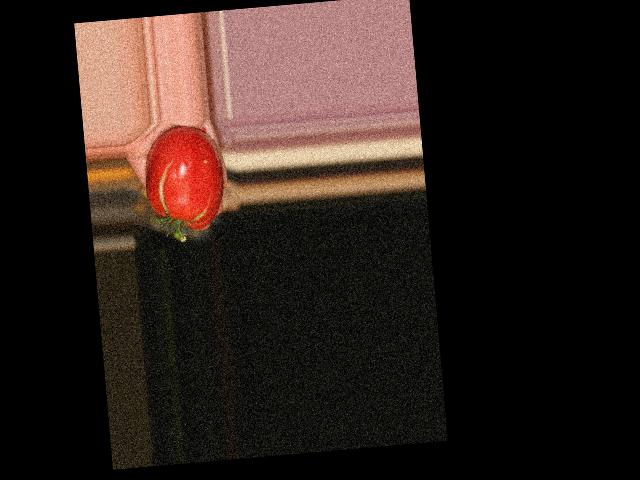tomato: (142, 123, 228, 233)
